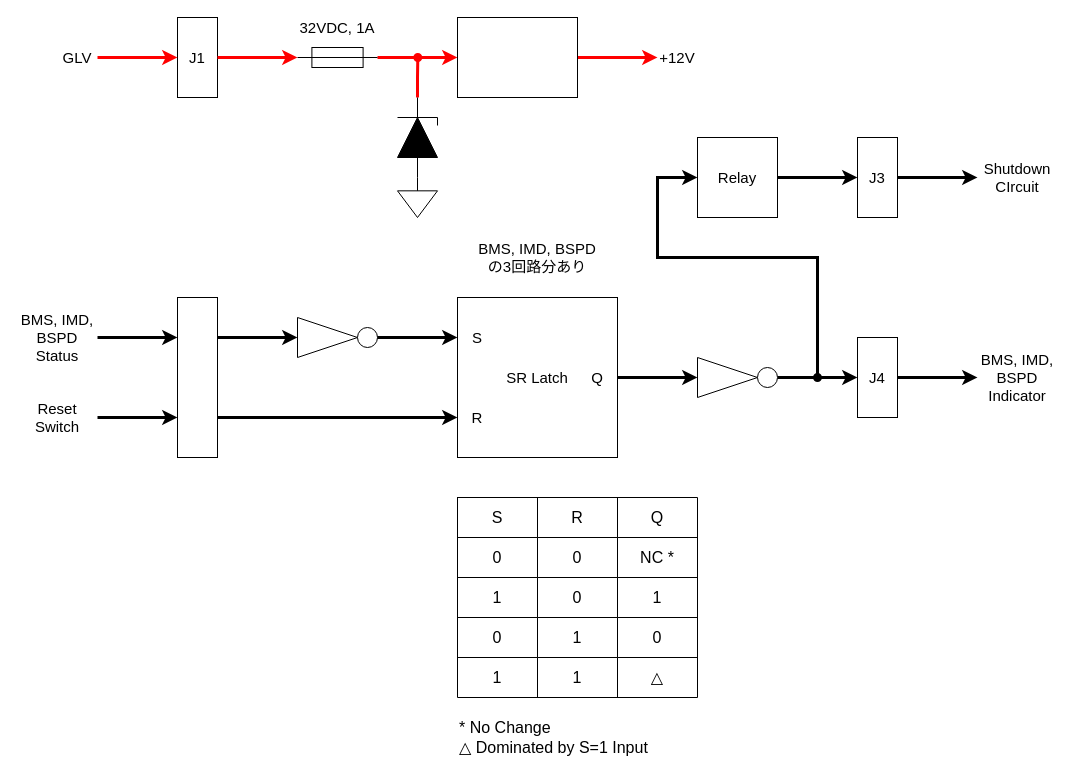
The diagram is 1074 pixels wide and 775 high, and some of its shapes have lost their labels. Each missing label, with the centre of its shape:
"J2" goes at (197,377).
"Reverse Polarity Protection" goes at (517,57).
